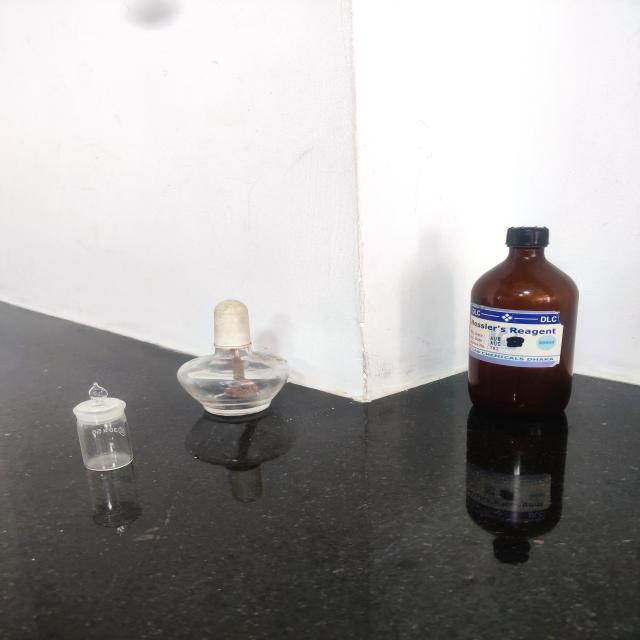Nessler_Reagent_Bottle: (424, 205, 638, 427)
Spirit_Lamp: (160, 288, 329, 435)
Weighing_Bottle: (32, 360, 145, 494)
